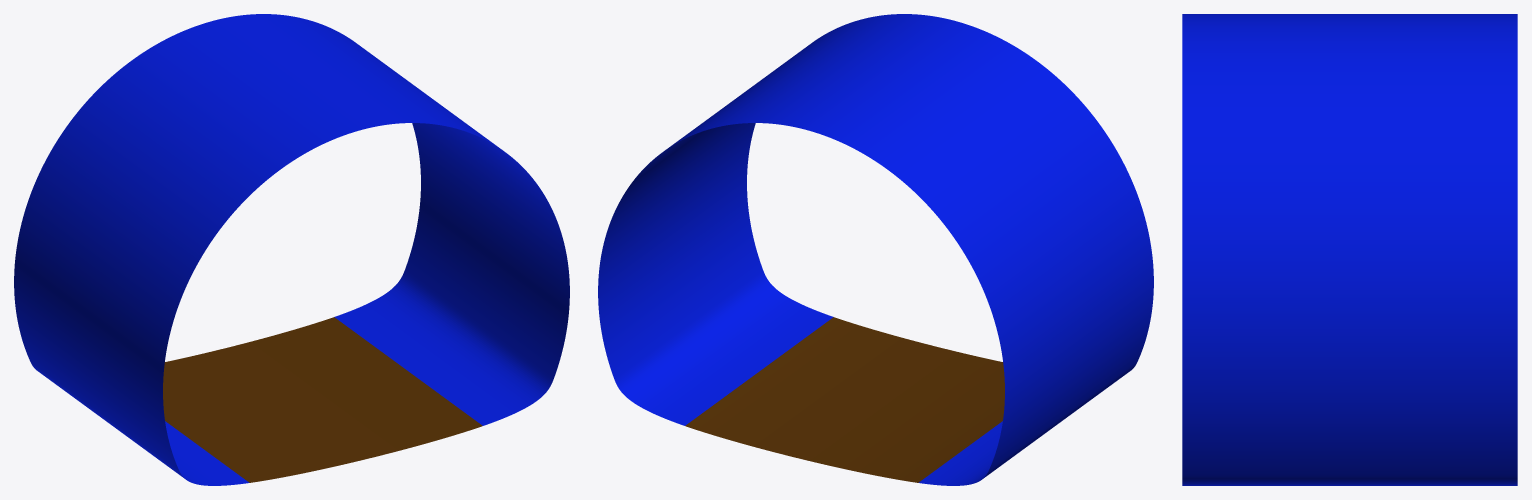
Rendered from L1V1_HP_Passage.fbx.
3 renders of one model, left to right at view 1: azimuth 30°, elevation 25°; view 2: azimuth 150°, elevation 25°; view 3: azimuth 270°, elevation 25°, orthographic. The views are drawn at different scales.
Parts seen in each view (by area): view 1: Passage.10; view 2: Passage.10; view 3: Passage.10.
Boxes of the visible parts, <box> form: Passage.10: <box>14,14,569,485</box>; Passage.10: <box>598,14,1153,485</box>; Passage.10: <box>1182,14,1517,485</box>.
Bounding box in the file's own units: 1262 × 979 × 800.
